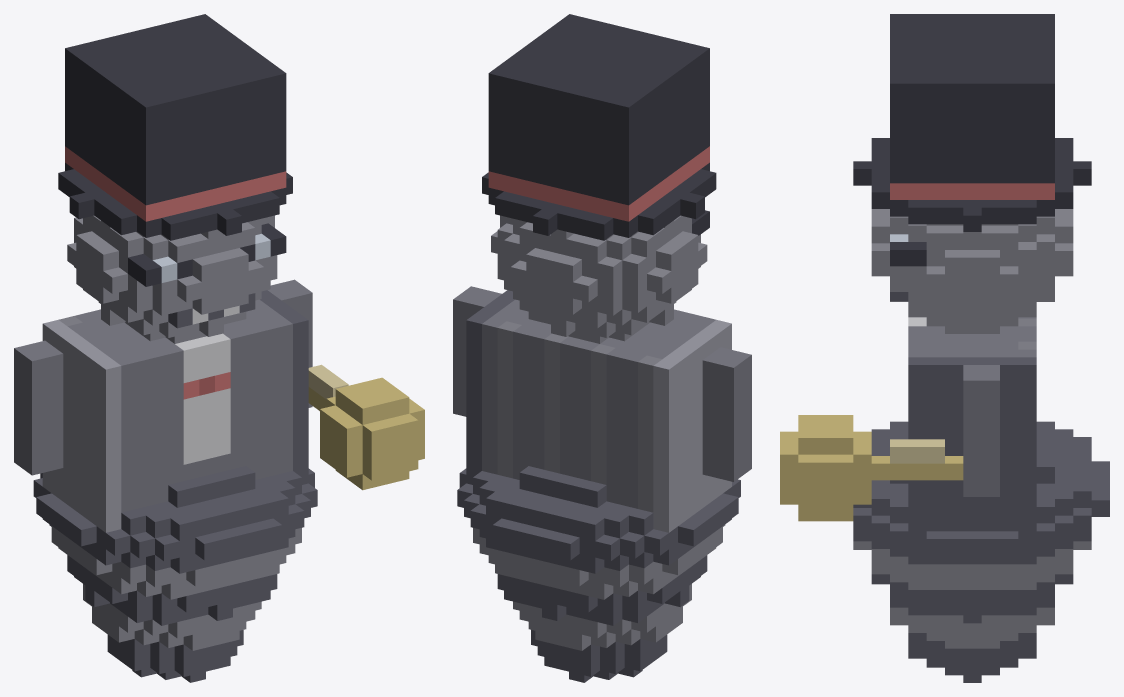
The model's file is boss_jazz.glb.
3 renders of one model, left to right at view 1: azimuth 30°, elevation 25°; view 2: azimuth 150°, elevation 25°; view 3: azimuth 270°, elevation 25°, orthographic.
Visible parts, largest first — view 1: body, head, armR, armL; view 2: body, head, armL, armR; view 3: head, body, armR.
Boxes of the visible parts, <box> form: body: <box>33,290,317,682</box>; head: <box>58,14,292,343</box>; armR: <box>267,279,424,490</box>; armL: <box>14,340,63,475</box>; body: <box>457,290,740,682</box>; head: <box>482,14,716,343</box>; armL: <box>702,347,751,481</box>; armR: <box>453,286,501,416</box>; head: <box>853,14,1091,333</box>; body: <box>853,317,1109,682</box>; armR: <box>780,365,999,521</box>.
Size of the model in its own units: 1.25 by 2.31 by 1.12.
